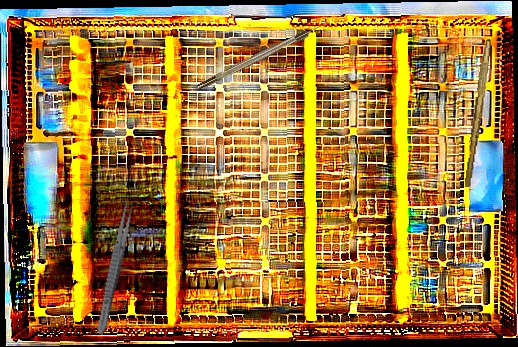Dressing Forceps: (93, 197, 137, 336)
Hook Surgical: (195, 18, 333, 91)
Scalpel Handle: (463, 38, 492, 188)
